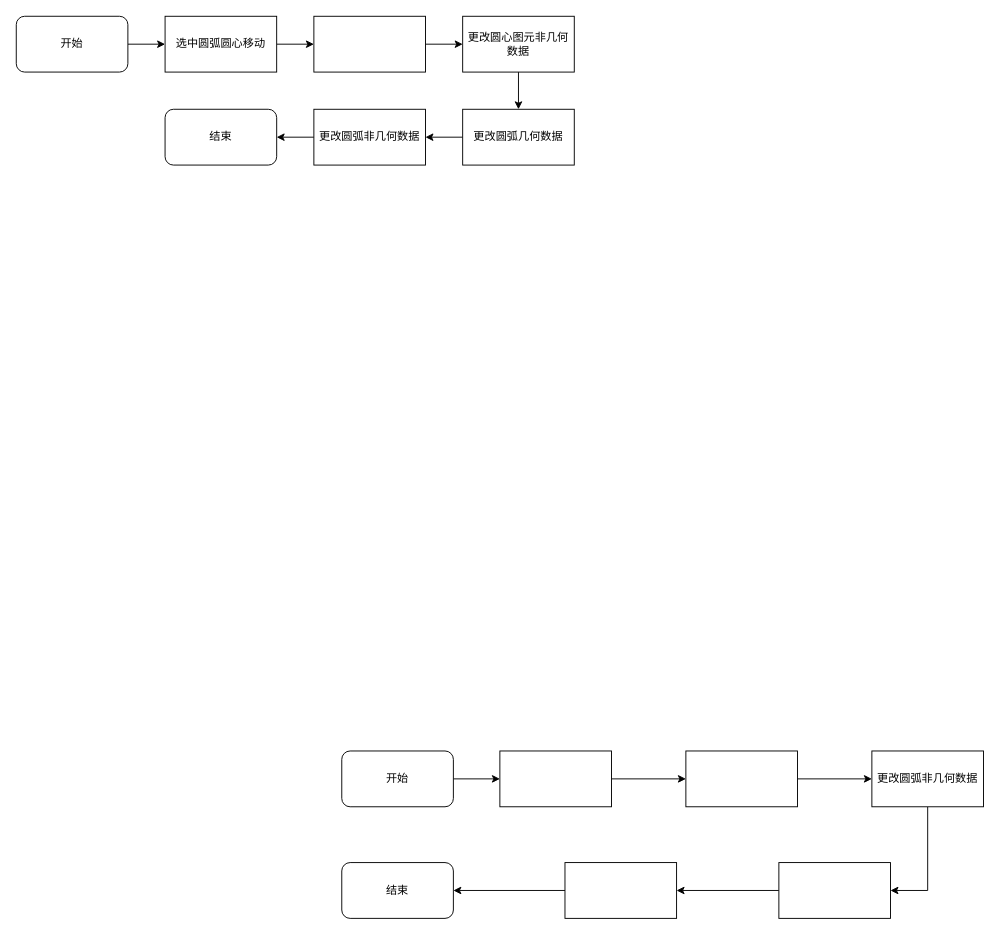
This 1000x935 diagram has some shape labels left out. Each missing label, with the box of its shape:
更改圆弧半径几何数据: (685, 750, 797, 807)
更改圆弧圆心几何数据: (313, 15, 425, 72)
更改圆弧端点图元非几何数据: (564, 862, 677, 918)
更改圆弧起点、终点几何数据: (778, 862, 890, 918)
选中圆弧移动圆弧半径: (499, 750, 611, 807)
